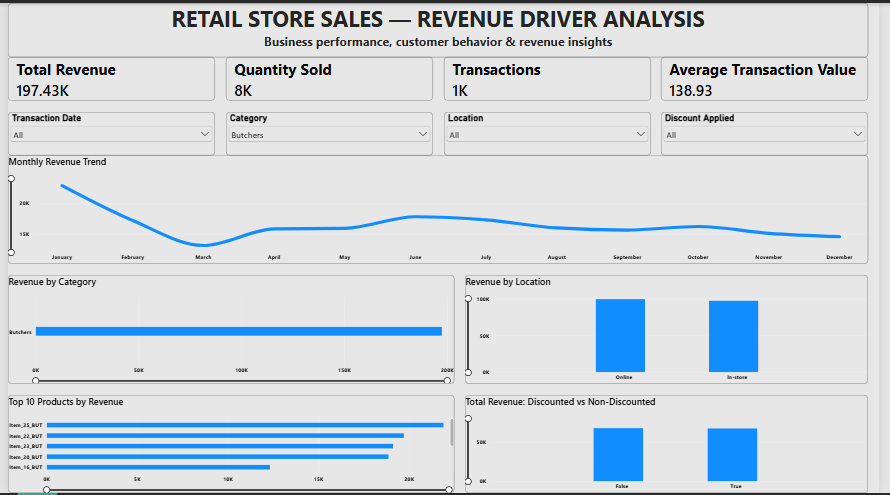

What the dashboard file says about the page in this screenshot:
{"tool":"powerbi","page":{"name":"Page 1","canvas":[1920,1080],"ordinal":0},"visuals":[{"type":"cardVisual","fields":{"Data":["retail_store_sales_clean.Total Revenue"]},"box":[0,120,456,96],"z":0},{"type":"cardVisual","fields":{"Data":["retail_store_sales_clean.Quantity Sold"]},"box":[480,120,456,96],"z":1000},{"type":"cardVisual","fields":{"Data":["retail_store_sales_clean.Transactions"]},"box":[960,120,456,96],"z":2000},{"type":"cardVisual","fields":{"Data":["retail_store_sales_clean.Average Transaction Value"]},"box":[1440,120,456,96],"z":3000},{"type":"lineChart","title":"Monthly Revenue Trend","fields":{"Category":["retail_store_sales_clean.Transaction Date.Variation.Date Hierarchy.Month"],"Y":["retail_store_sales_clean.Total Revenue"]},"box":[0,336,1896,240],"z":4000},{"type":"clusteredBarChart","title":"Revenue by Category","fields":{"Category":["retail_store_sales_clean.Category"],"Y":["retail_store_sales_clean.Total Revenue"]},"box":[0,600,984,240],"z":5000},{"type":"clusteredColumnChart","title":"Revenue by Location","fields":{"Category":["retail_store_sales_clean.Location"],"Y":["retail_store_sales_clean.Total Revenue"]},"box":[1008,600,888,240],"z":6000},{"type":"clusteredBarChart","title":"Top 10 Products by Revenue","fields":{"Category":["retail_store_sales_clean.Item"],"Y":["retail_store_sales_clean.Total Revenue"]},"box":[0,864,984,216],"z":7000},{"type":"clusteredColumnChart","title":"Total Revenue: Discounted vs Non-Discounted","fields":{"Category":["retail_store_sales_clean.Discount Applied"],"Y":["retail_store_sales_clean.Total Revenue"]},"box":[1008,864,888,216],"z":7001},{"type":"slicer","fields":{"Values":["retail_store_sales_clean.Category"]},"box":[480,240,456,96],"z":7002},{"type":"slicer","fields":{"Values":["retail_store_sales_clean.Transaction Date"]},"box":[0,240,456,96],"z":7003},{"type":"slicer","fields":{"Values":["retail_store_sales_clean.Location"]},"box":[960,240,456,96],"z":7004},{"type":"slicer","fields":{"Values":["retail_store_sales_clean.Discount Applied"]},"box":[1440,240,456,96],"z":7005},{"type":"textbox","box":[0,0,1896,120],"z":7006}]}

Visuals, with their boxes in screenshot pixels (x1, y1, x2, y2), scaled from the page's 1920x1080 canvas onto the 890x495 screenshot:
cardVisual - retail_store_sales_clean.Total Revenue: rect(0, 55, 211, 99)
cardVisual - retail_store_sales_clean.Quantity Sold: rect(222, 55, 434, 99)
cardVisual - retail_store_sales_clean.Transactions: rect(445, 55, 656, 99)
cardVisual - retail_store_sales_clean.Average Transaction Value: rect(668, 55, 879, 99)
"Monthly Revenue Trend" lineChart: rect(0, 154, 879, 264)
"Revenue by Category" clusteredBarChart: rect(0, 275, 456, 385)
"Revenue by Location" clusteredColumnChart: rect(467, 275, 879, 385)
"Top 10 Products by Revenue" clusteredBarChart: rect(0, 396, 456, 494)
"Total Revenue: Discounted vs Non-Discounted" clusteredColumnChart: rect(467, 396, 879, 494)
slicer - retail_store_sales_clean.Category: rect(222, 110, 434, 154)
slicer - retail_store_sales_clean.Transaction Date: rect(0, 110, 211, 154)
slicer - retail_store_sales_clean.Location: rect(445, 110, 656, 154)
slicer - retail_store_sales_clean.Discount Applied: rect(668, 110, 879, 154)
textbox: rect(0, 0, 879, 55)
